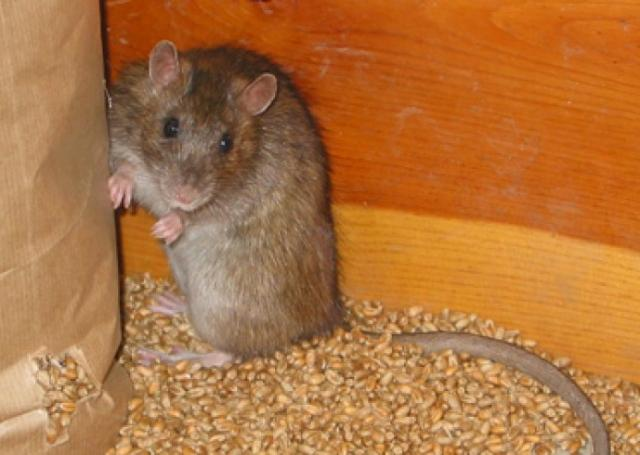rat: (79, 27, 461, 376)
